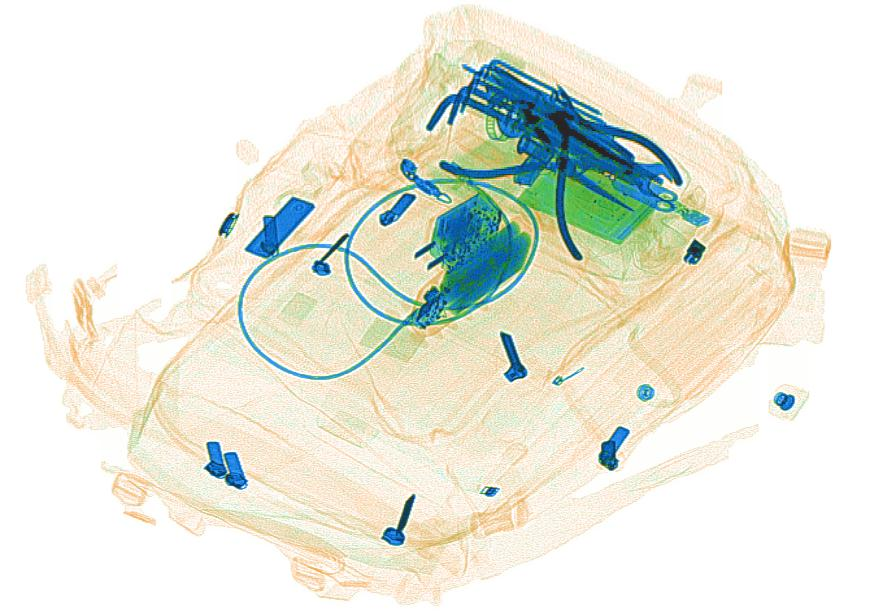USBFlashDisk: (610, 171, 712, 228)
